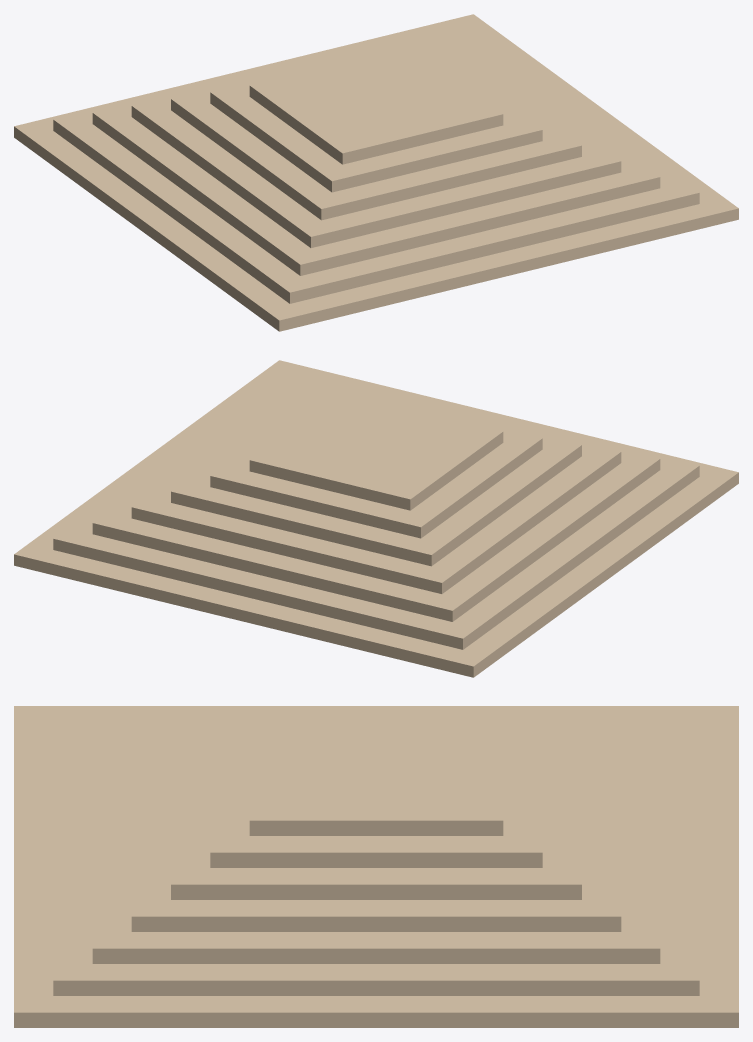
The model's file is place-great-pyramid-of-cholula.glb.
The picture shows the model from 3 angles, top to bottom: view 1: azimuth 30°, elevation 25°; view 2: azimuth 150°, elevation 25°; view 3: azimuth 270°, elevation 25°; orthographic projection. The views are drawn at different scales.
Parts seen in each view (by area): view 1: place-great-pyramid-of-cholula; view 2: place-great-pyramid-of-cholula; view 3: place-great-pyramid-of-cholula.
Boxes of the visible parts, x1,y1,x2,y2 form: place-great-pyramid-of-cholula: [14, 14, 738, 331]; place-great-pyramid-of-cholula: [14, 360, 738, 677]; place-great-pyramid-of-cholula: [14, 706, 738, 1027].
Size of the model in its own units: 396 by 64.9 by 396.
